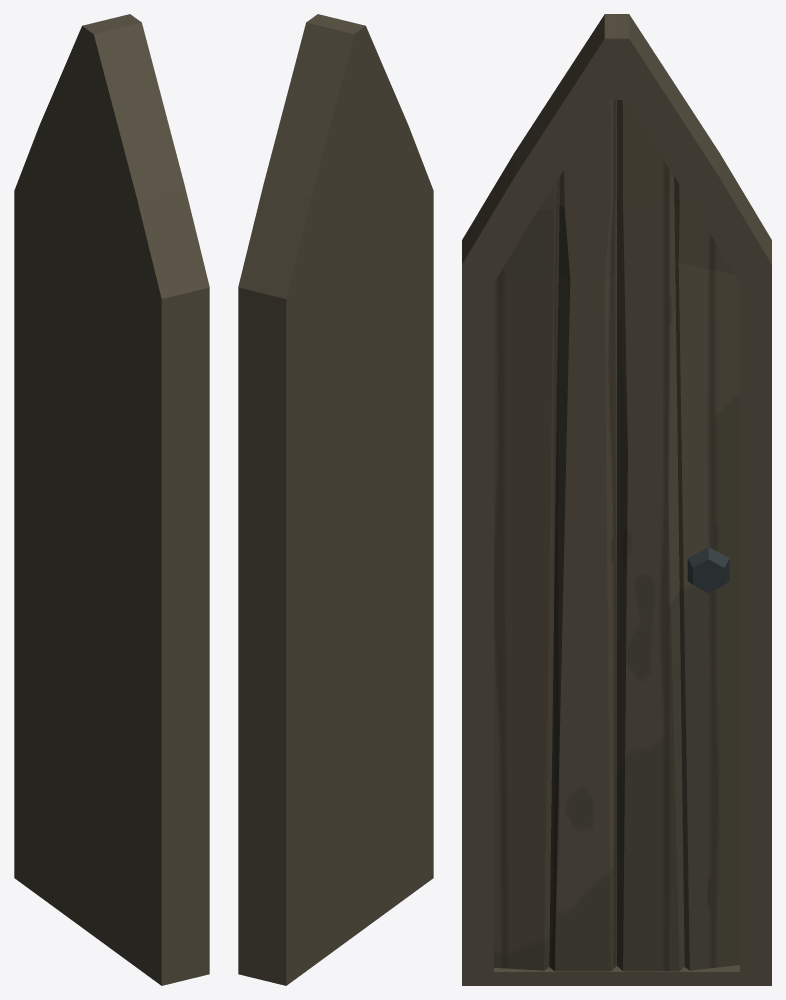
File: Door 2.fbx
The picture shows the model from 3 angles, left to right: view 1: azimuth 30°, elevation 25°; view 2: azimuth 150°, elevation 25°; view 3: azimuth 270°, elevation 25°; orthographic projection. The views are drawn at different scales.
Visible parts, largest first — view 1: Door 2.001; view 2: Door 2.001; view 3: Door 2.001.
Boxes of the visible parts, <box> form: Door 2.001: <box>14,14,209,985</box>; Door 2.001: <box>238,14,433,985</box>; Door 2.001: <box>462,14,771,985</box>.
Size of the model in its own units: 37.38 by 548 by 162.
